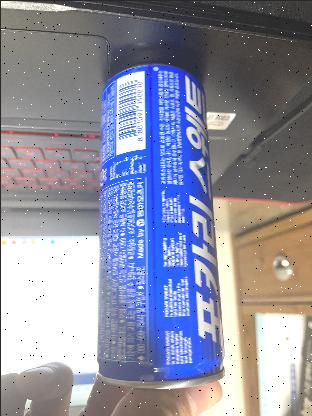Can: (96, 62, 227, 388)
